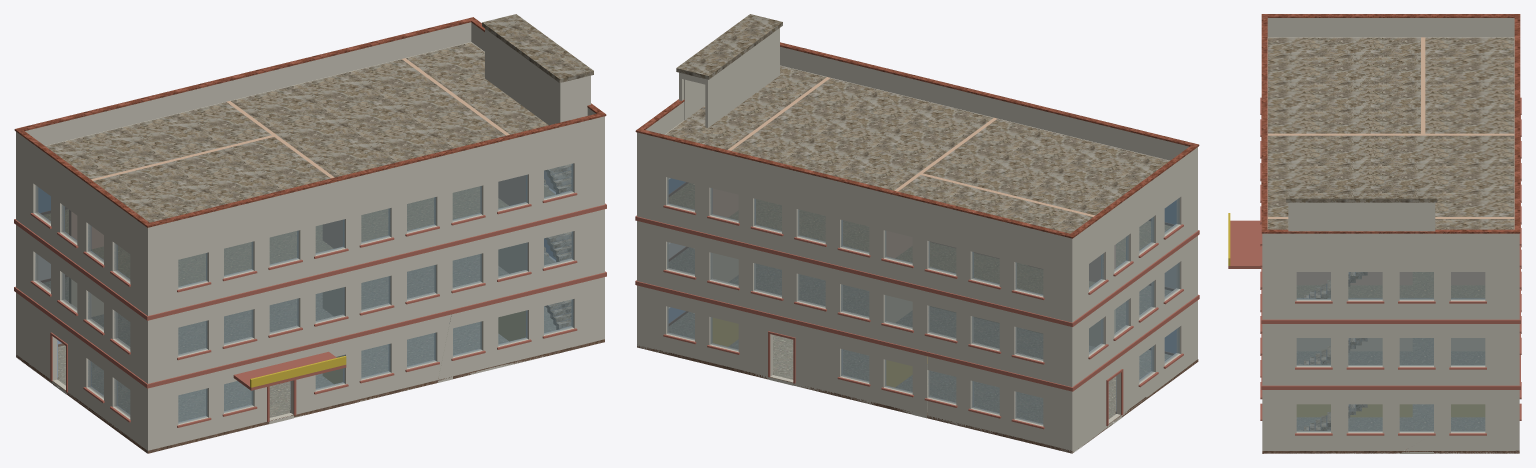
File: ew-control-house.glass-v3.lod0.glb
3 renders of one model, left to right at view 1: azimuth 30°, elevation 25°; view 2: azimuth 150°, elevation 25°; view 3: azimuth 270°, elevation 25°, orthographic. The views are drawn at different scales.
Visible parts, largest first — view 1: ew-control-house; view 2: ew-control-house; view 3: ew-control-house.
Boxes of the visible parts, <box> form: ew-control-house: <box>14,14,606,453</box>; ew-control-house: <box>635,14,1199,453</box>; ew-control-house: <box>1228,14,1521,453</box>.
Bounding box in the file's own units: 24.2 × 13.17 × 13.7.
4 materials, 2 textured.
